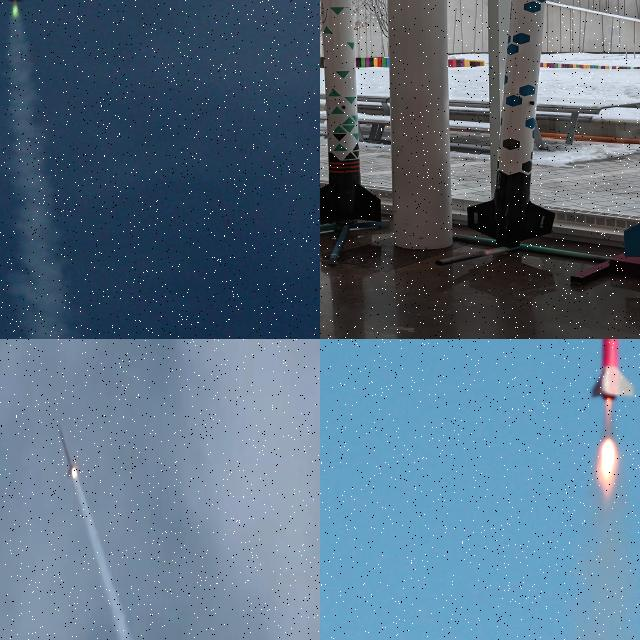Rocket: (467, 0, 556, 247), (320, 0, 381, 225), (589, 339, 635, 402), (58, 424, 76, 476)
